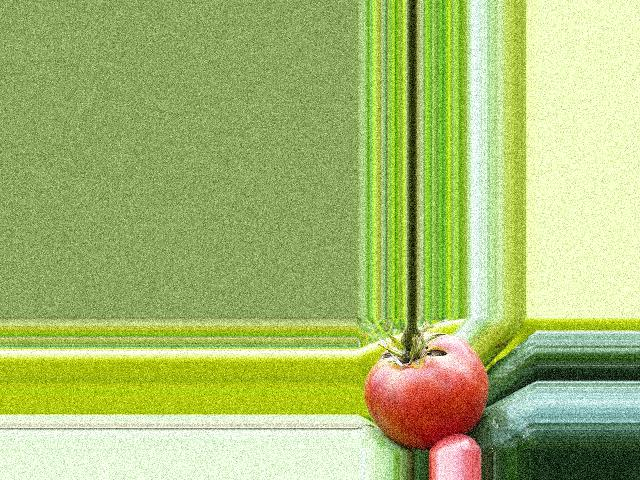tomato: (364, 334, 487, 450)
